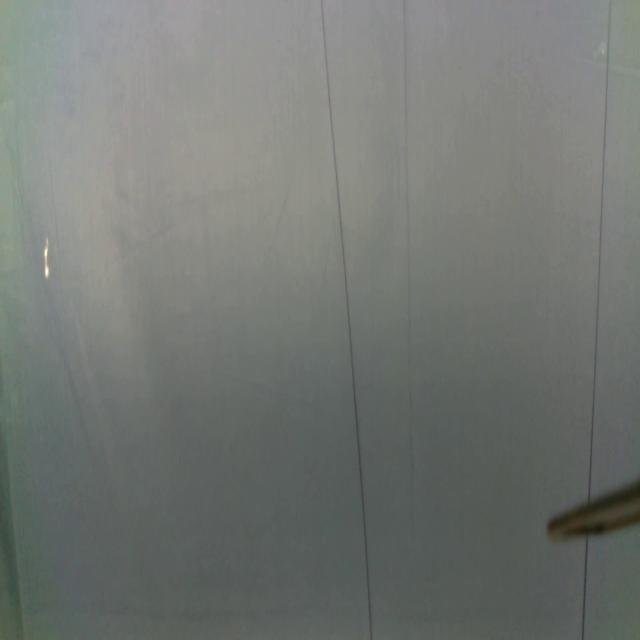crease: (321, 0, 373, 640), (587, 0, 614, 494), (401, 0, 416, 477), (580, 536, 589, 640)
hole: (44, 238, 52, 283)
